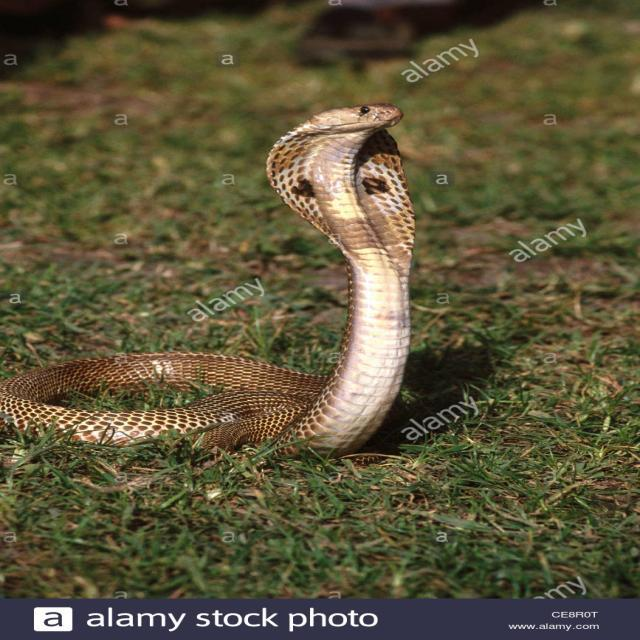Snake: (1, 102, 417, 460)
